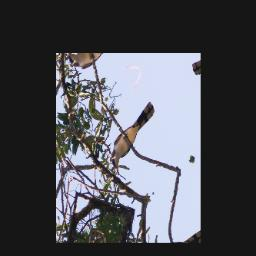Cuckoo: (103, 98, 166, 176)
